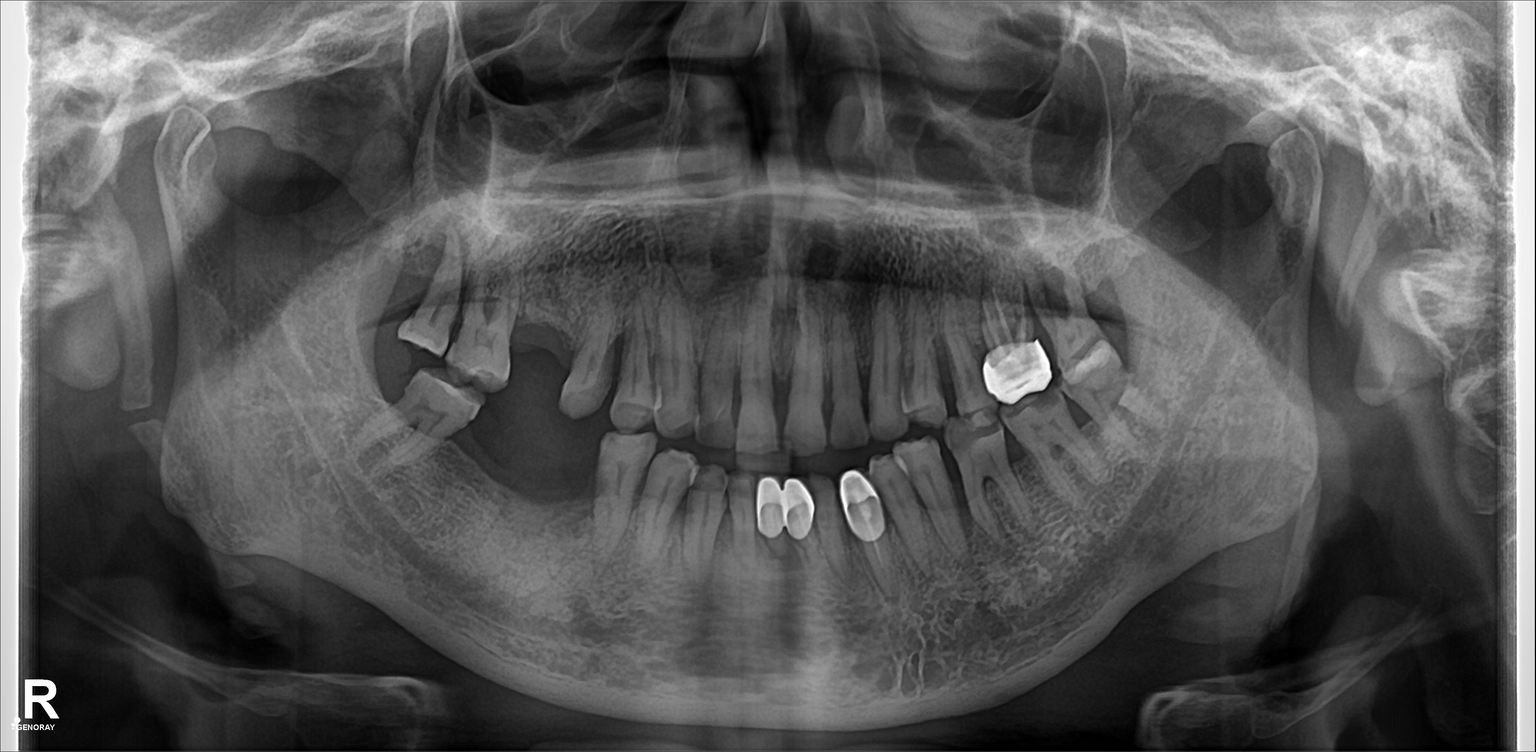Endodontically Treated Tooth: (974, 296, 1038, 395), (845, 477, 894, 599), (777, 478, 822, 582), (760, 484, 784, 581)
Impacted Third Molar: (383, 357, 475, 474)
Missing Tooth: (516, 287, 566, 405), (542, 437, 591, 554), (378, 235, 432, 338), (467, 417, 510, 527), (1091, 270, 1143, 343), (512, 428, 548, 533)
